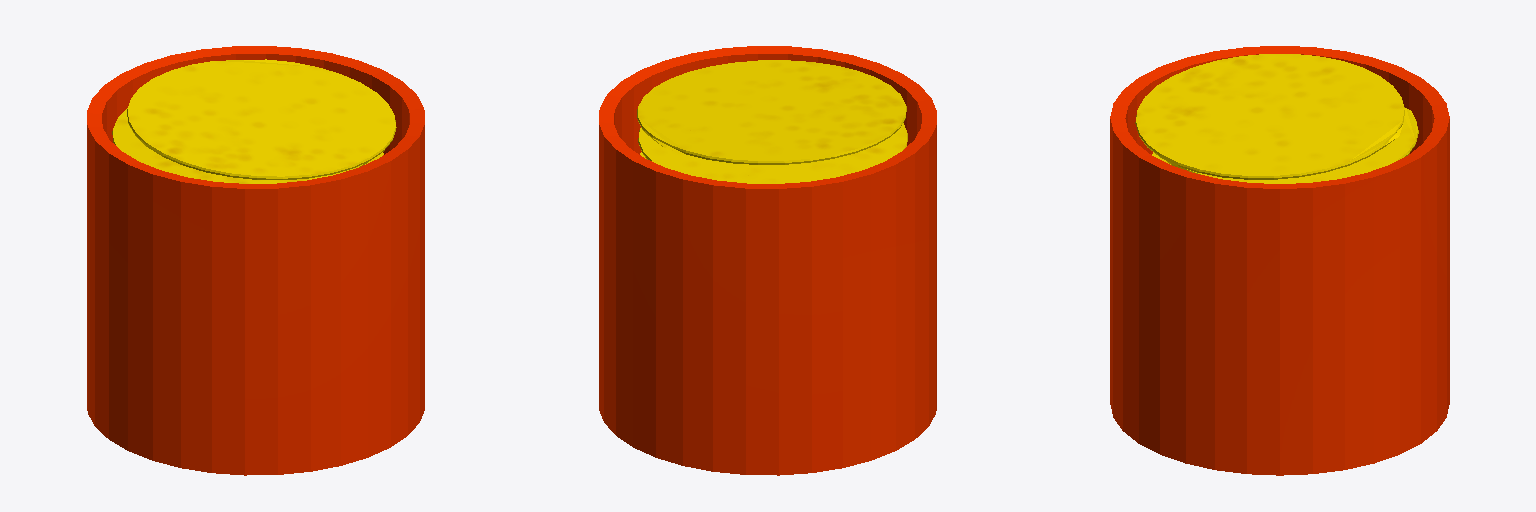
The picture shows the model from 3 angles: view 1: azimuth 30°, elevation 25°; view 2: azimuth 150°, elevation 25°; view 3: azimuth 270°, elevation 25°; orthographic projection.
Visible parts, largest first — view 1: Cylinder, Cylinder.004, Cylinder.002; view 2: Cylinder, Cylinder.004, Cylinder.002; view 3: Cylinder, Cylinder.004, Cylinder.002.
Part boxes in pixels (bbox=[...]): Cylinder: bbox=[87, 46, 424, 475]; Cylinder.004: bbox=[127, 59, 396, 179]; Cylinder.002: bbox=[112, 108, 367, 183]; Cylinder: bbox=[599, 46, 936, 475]; Cylinder.004: bbox=[637, 60, 906, 164]; Cylinder.002: bbox=[638, 123, 907, 183]; Cylinder: bbox=[1110, 46, 1449, 475]; Cylinder.004: bbox=[1135, 54, 1404, 179]; Cylinder.002: bbox=[1167, 108, 1418, 183].
Size of the model in its own units: 2.2 by 2.11 by 2.2.
2 materials, 2 textured.